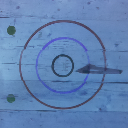Axe Tip: (77, 68, 90, 70)
